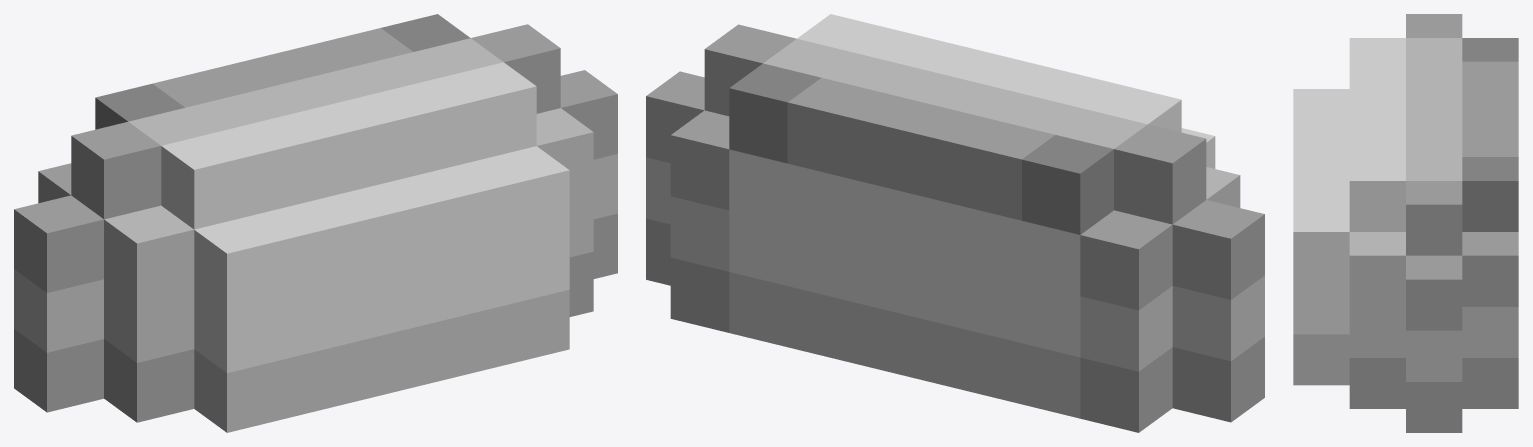
File: Interior_Furniture-67.obj
3 views of the same model, side by side, from view 1: azimuth 30°, elevation 25°; view 2: azimuth 150°, elevation 25°; view 3: azimuth 270°, elevation 25° (orthographic). The views are drawn at different scales.
Bounding box in the file's own units: 1 × 0.4 × 0.4.
Materials: 1 (1 with a texture image).
